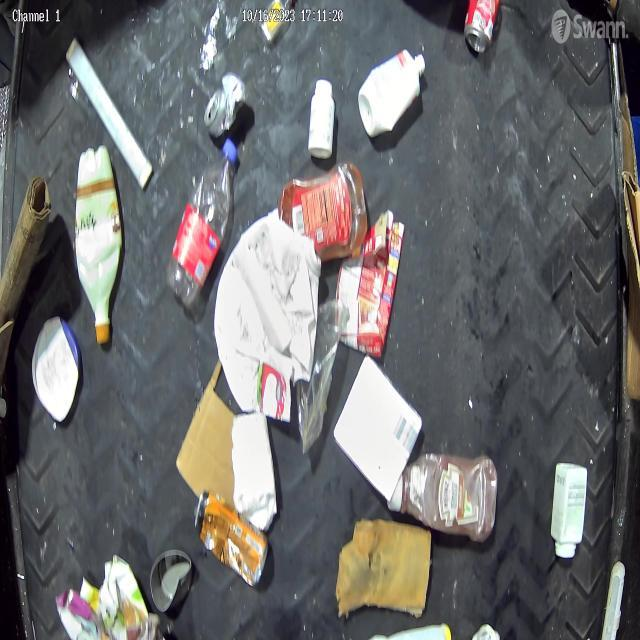can: (204, 75, 251, 126), (466, 0, 502, 50)
milk_jug: (222, 208, 314, 412)
plastic_bottle: (170, 140, 241, 294)
